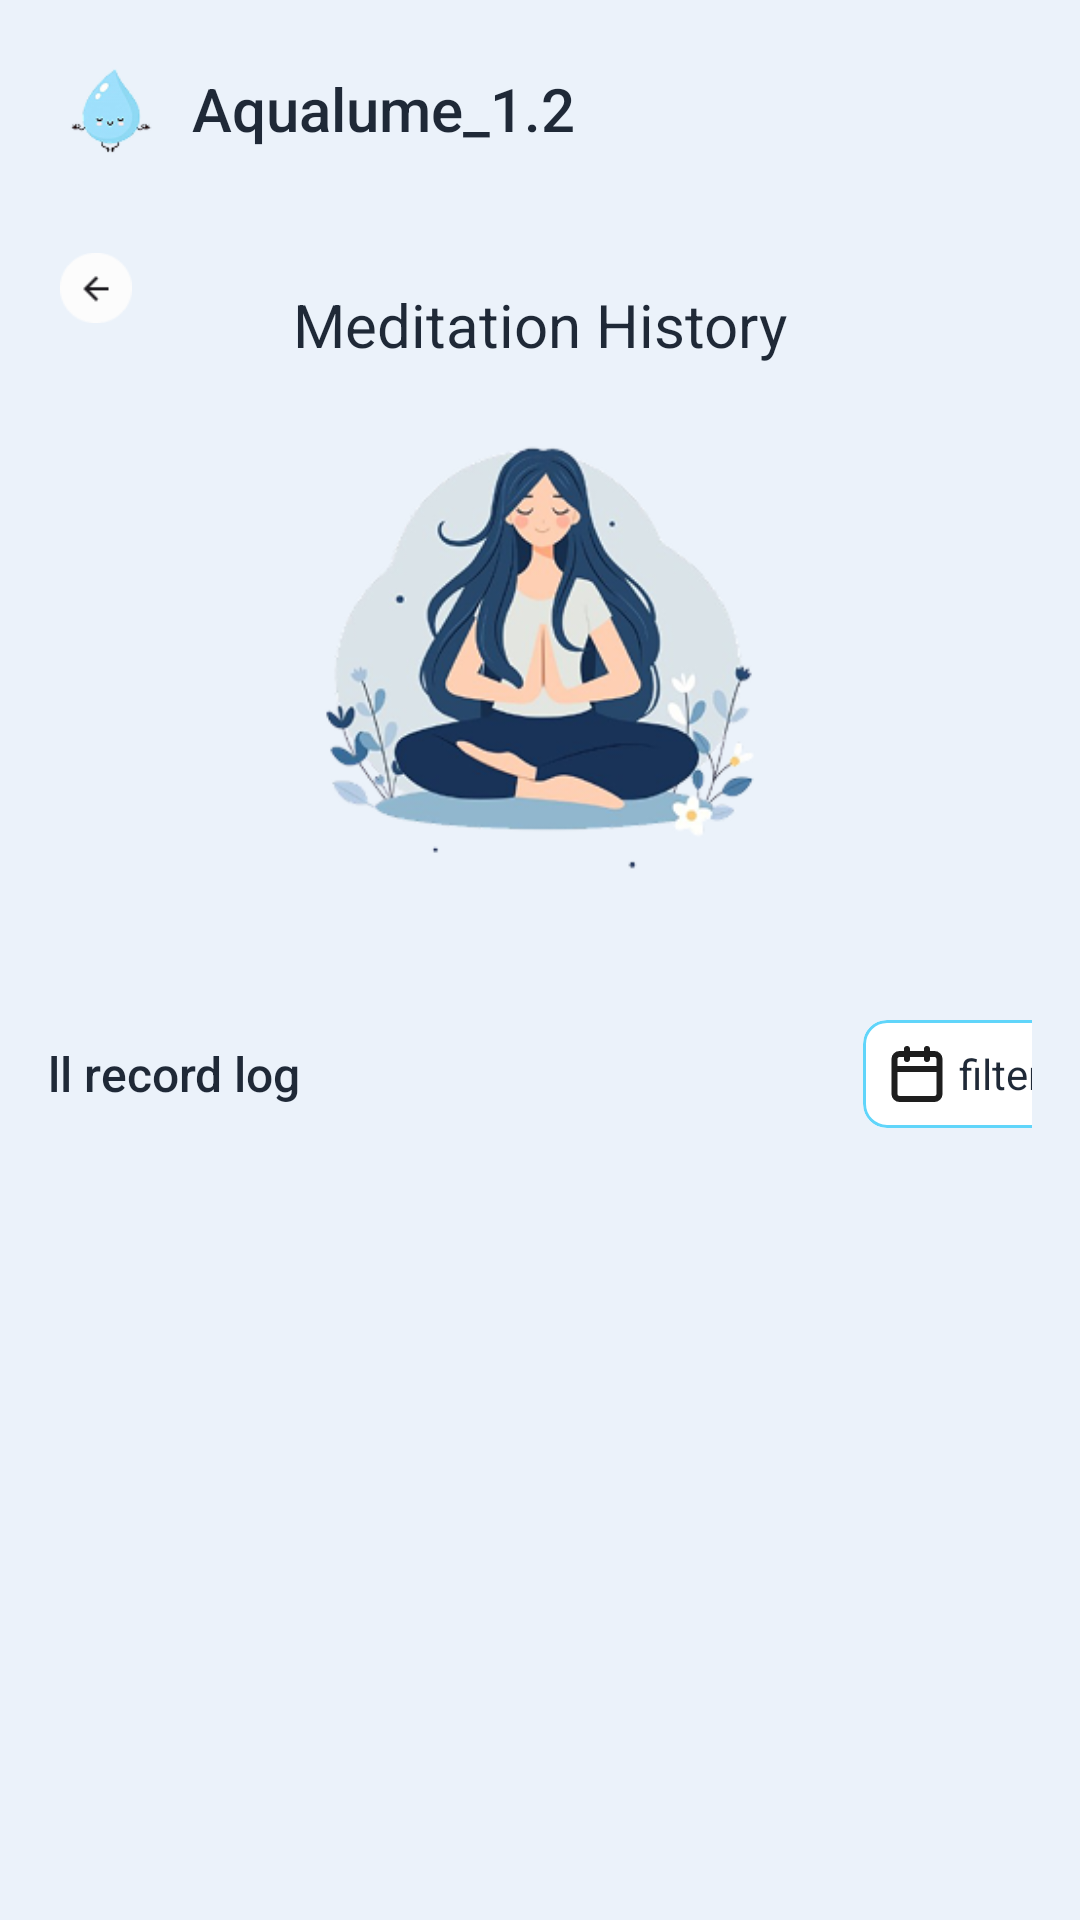

Icons on this 1080w x 1920h Android screen, each with its box as (x1, y1, x2, y2):
Back2: (60, 253, 132, 323)
